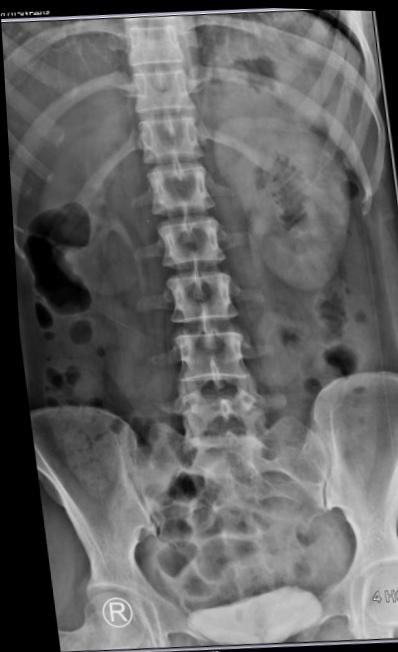bladder: (166, 577, 324, 651)
left kidney: (205, 103, 371, 302)
right kidney: (24, 114, 153, 306)
vertebrae: (139, 160, 218, 216)
